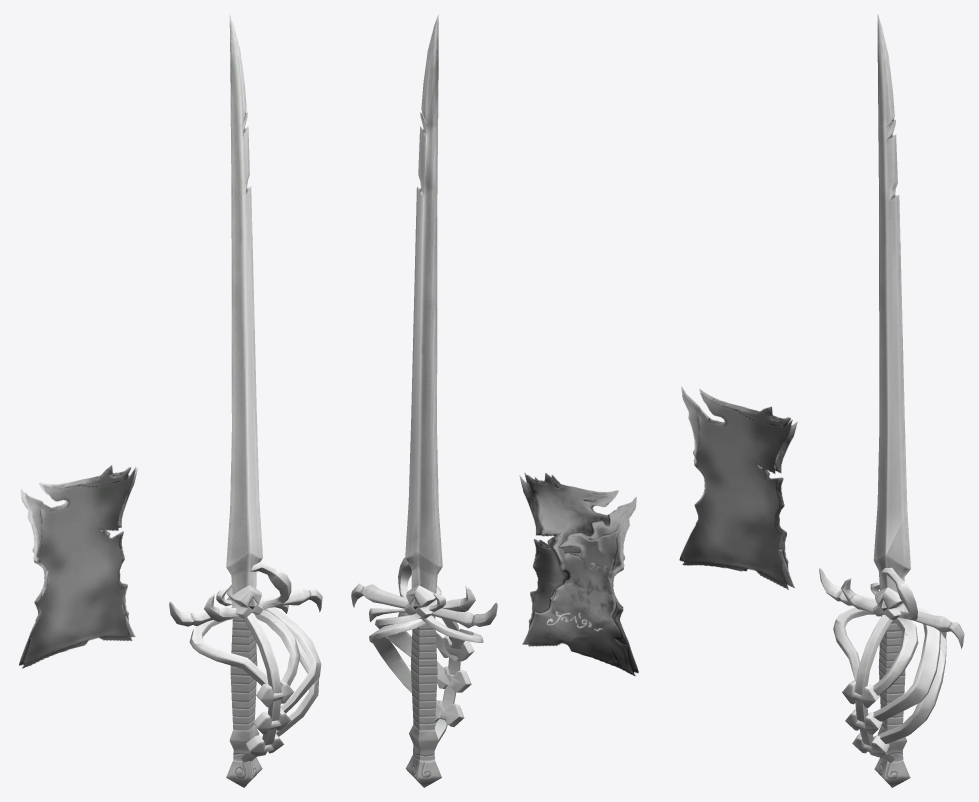
File: joseph-necromancer-old.glb
3 renders of one model, left to right at view 1: azimuth 30°, elevation 25°; view 2: azimuth 150°, elevation 25°; view 3: azimuth 330°, elevation 25°, orthographic.
Visible parts, largest first — view 1: 约瑟夫 老态_mesh; view 2: 约瑟夫 老态_mesh; view 3: 约瑟夫 老态_mesh.
Part boxes in pixels (x1,y1,x2,y2): 约瑟夫 老态_mesh: [19, 15, 322, 787]; 约瑟夫 老态_mesh: [351, 14, 638, 787]; 约瑟夫 老态_mesh: [679, 14, 964, 787].
Bounding box in the file's own units: 0.5972 × 1.48 × 0.1908.
1 material, 1 textured.
